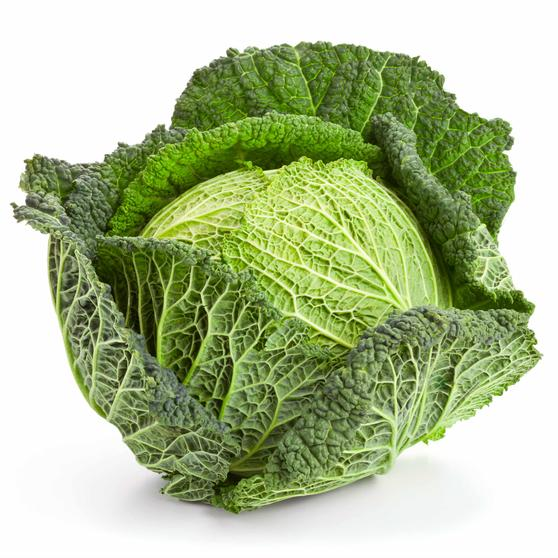cabbage: (20, 40, 547, 515)
